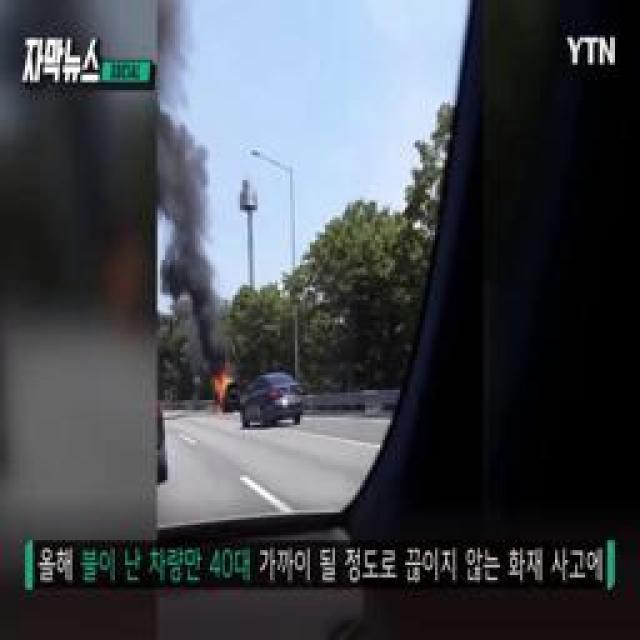Fire: (210, 372, 235, 409)
